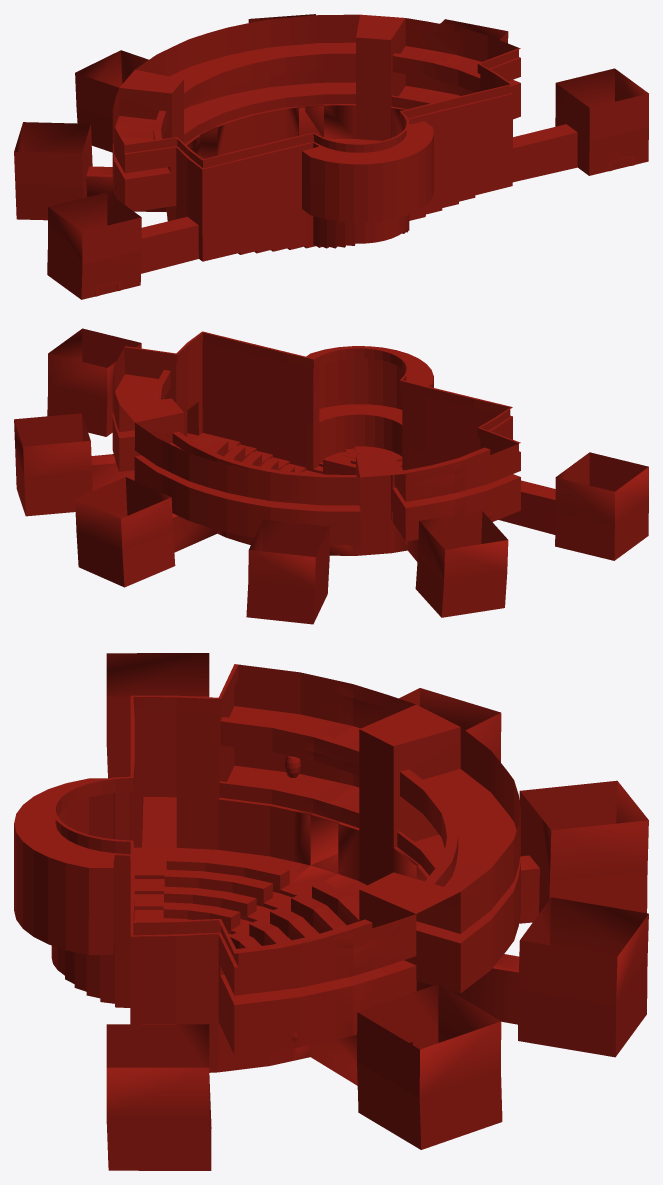
The model's file is Senate_blockin.fbx.
The picture shows the model from 3 angles, top to bottom: view 1: azimuth 30°, elevation 25°; view 2: azimuth 150°, elevation 25°; view 3: azimuth 270°, elevation 25°; orthographic projection. The views are drawn at different scales.
Visible parts, largest first — view 1: Cylinder.005; view 2: Cylinder.005; view 3: Cylinder.005.
Part boxes in pixels (x1,y1,x2,y2): Cylinder.005: [14, 14, 648, 299]; Cylinder.005: [14, 328, 648, 624]; Cylinder.005: [14, 653, 648, 1170].
Size of the model in its own units: 6030 by 1153 by 3899.
